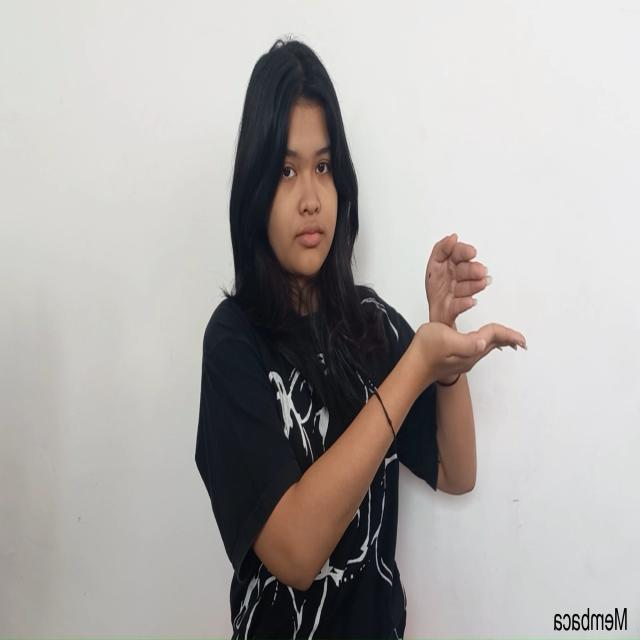Membaca -BISINDO-: (413, 231, 528, 387)
